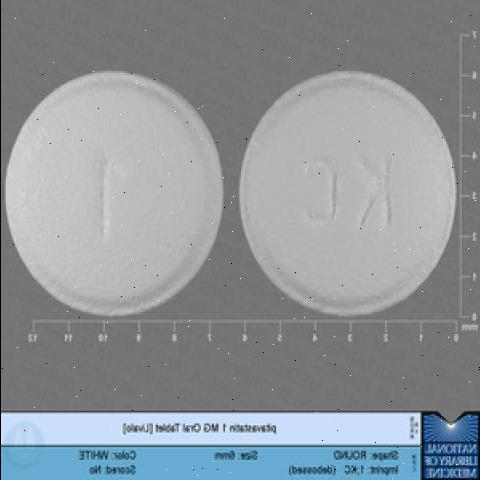Pill: (224, 15, 462, 321), (0, 32, 243, 326)
